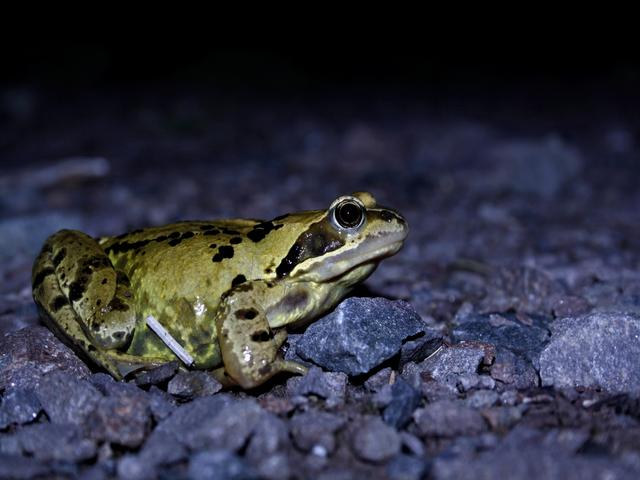frog: (22, 163, 478, 408)
